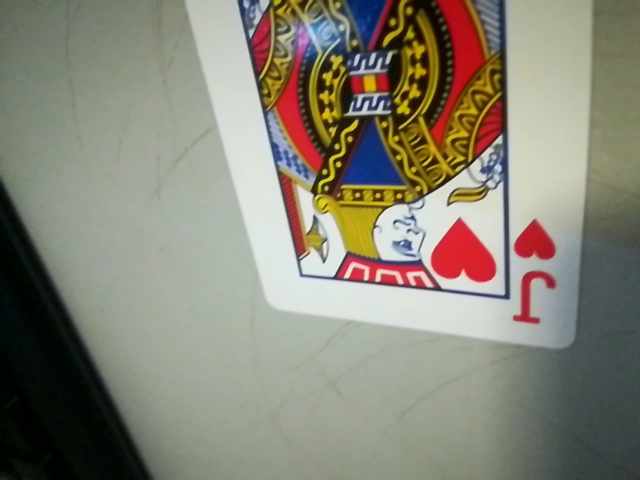hx j: (501, 219, 570, 338)
